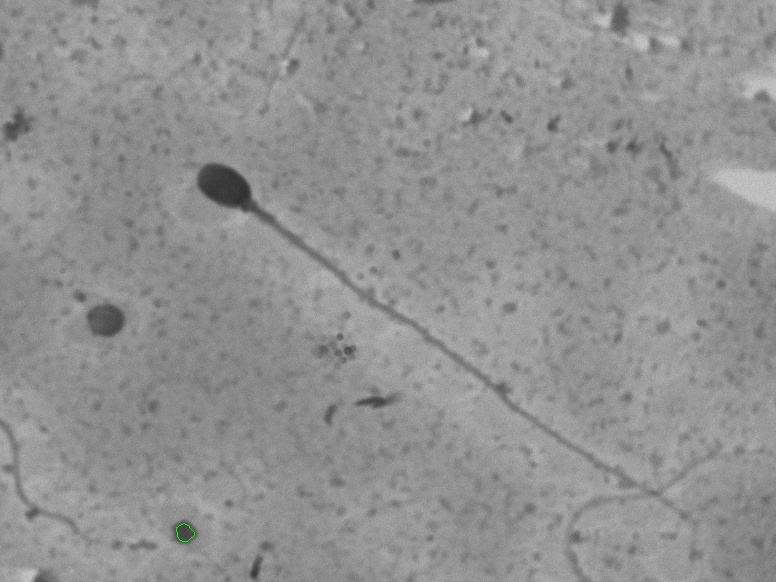Normal: (154, 125, 705, 551)
